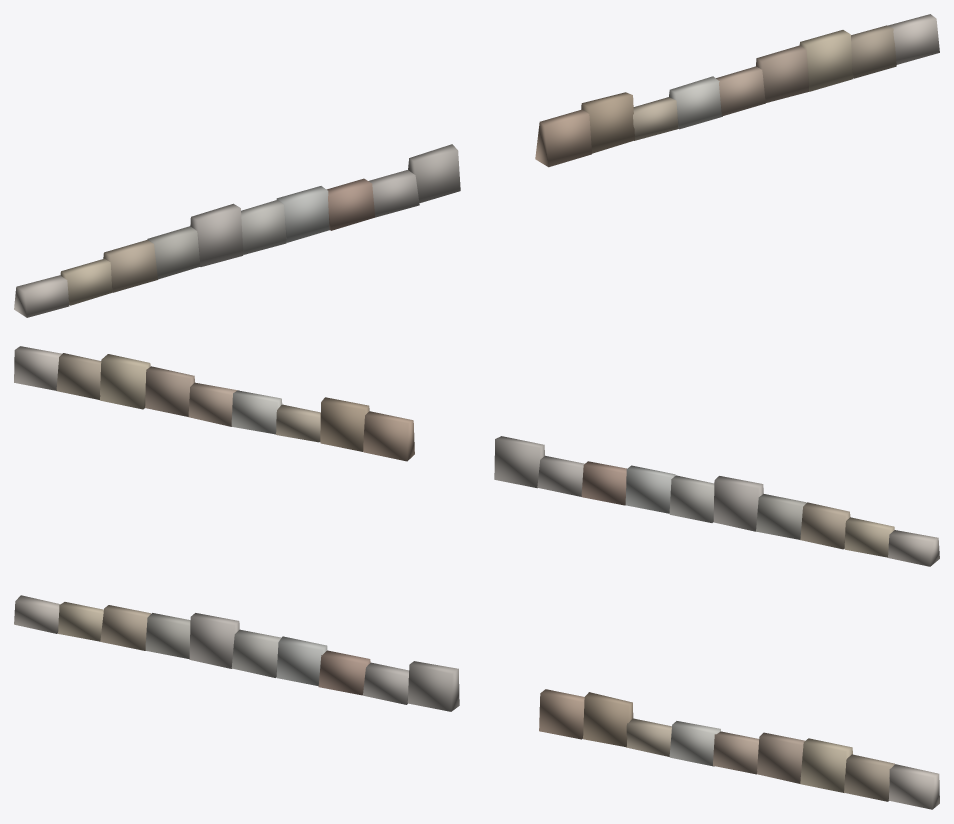
File: farm_39_34_far.glb
The picture shows the model from 3 angles, top to bottom: view 1: azimuth 30°, elevation 25°; view 2: azimuth 150°, elevation 25°; view 3: azimuth 330°, elevation 25°; orthographic projection. The views are drawn at different scales.
Parts seen in each view (by area): view 1: geometry_0; view 2: geometry_0; view 3: geometry_0.
Boxes of the visible parts, bbox=[...] form: geometry_0: bbox=[14, 14, 939, 317]; geometry_0: bbox=[14, 346, 939, 566]; geometry_0: bbox=[14, 595, 939, 809].
Bounding box in the file's own units: 31.98 × 1.48 × 3.13.
